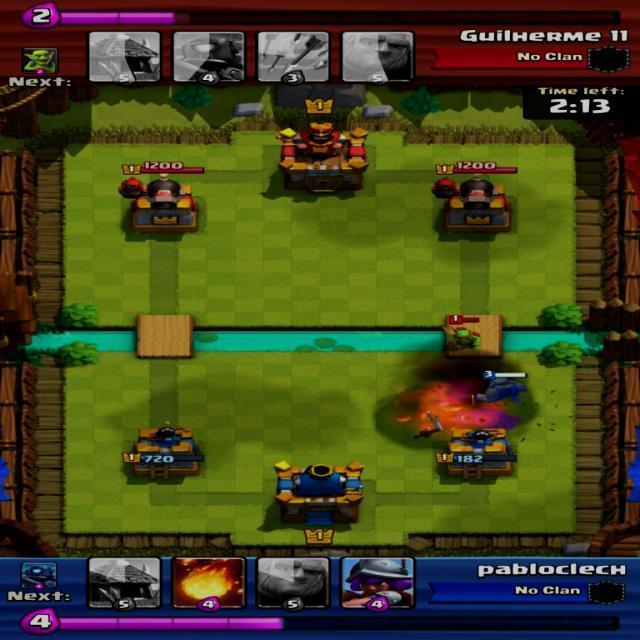ECannoneerTower: (119, 177, 197, 232), (432, 178, 510, 232)
EKingTower: (279, 122, 368, 191)
ESpearGoblin: (443, 314, 481, 354)
OBrawler: (473, 370, 526, 402)
OwnKingTower: (274, 461, 363, 525)
OwnPrincessTower: (124, 423, 203, 476), (435, 429, 516, 479)
